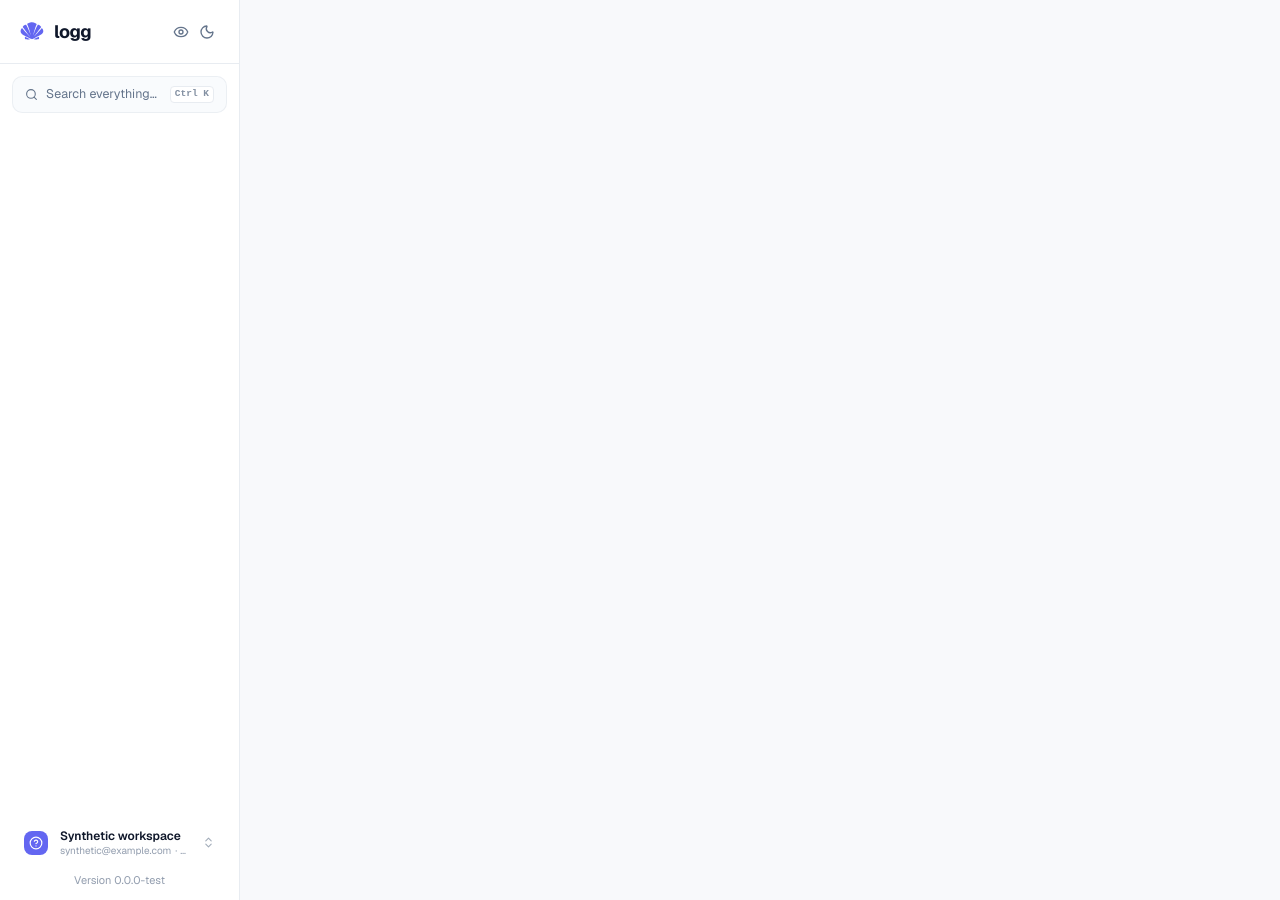
Test: still offers the full local credential menu on the desktop surface
Step 1. Click the button "Synthetic workspace synthetic@example.com· Owner" → {"x": 120, "y": 843}, box [12, 818, 227, 868]
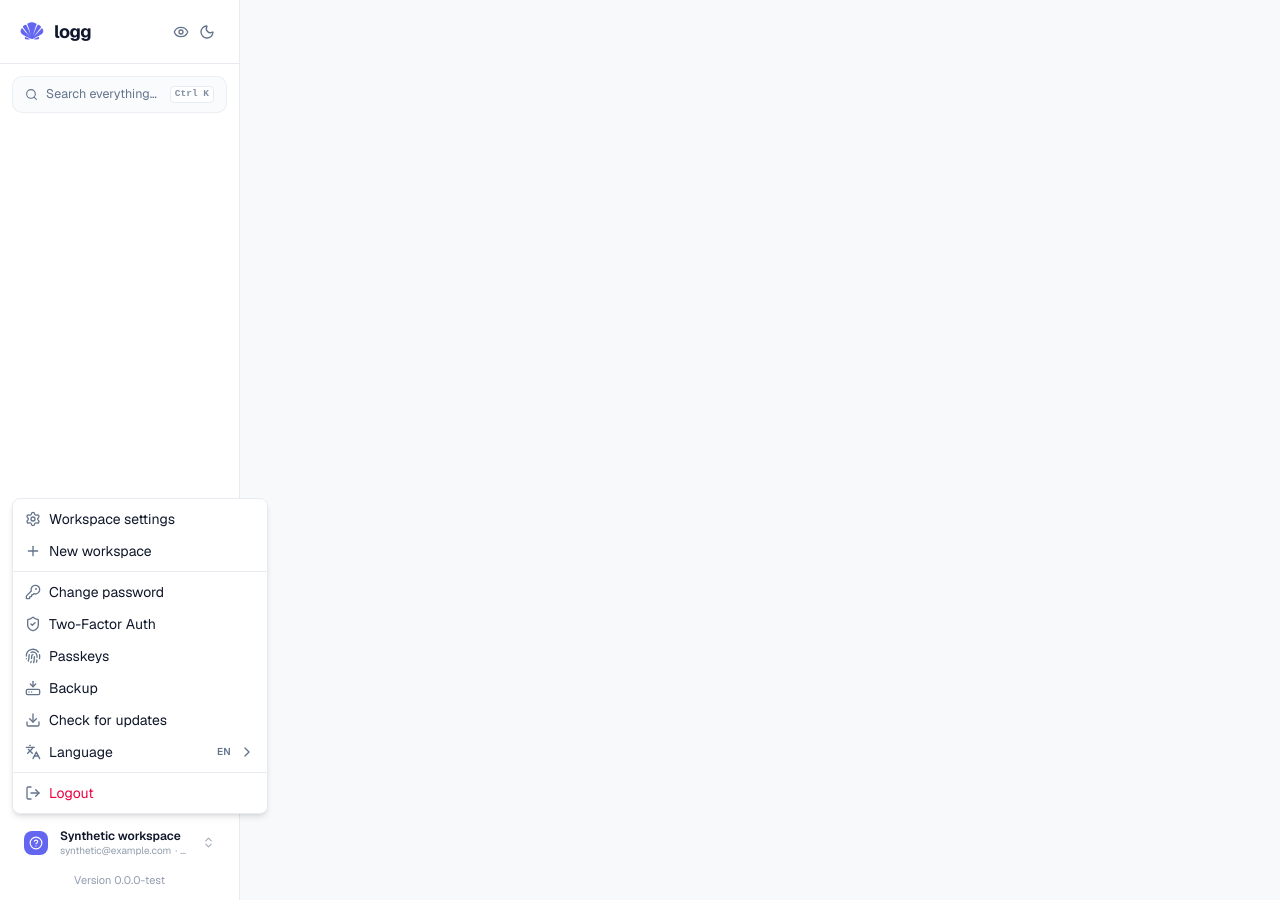
Result: the menu item "Change password" is shown at [25, 583, 164, 601]
Result: the menu item "Two-Factor Auth" is shown at [25, 615, 156, 633]
Step 2. Click the menu item "Passkeys" → {"x": 67, "y": 656}, box [25, 647, 109, 665]
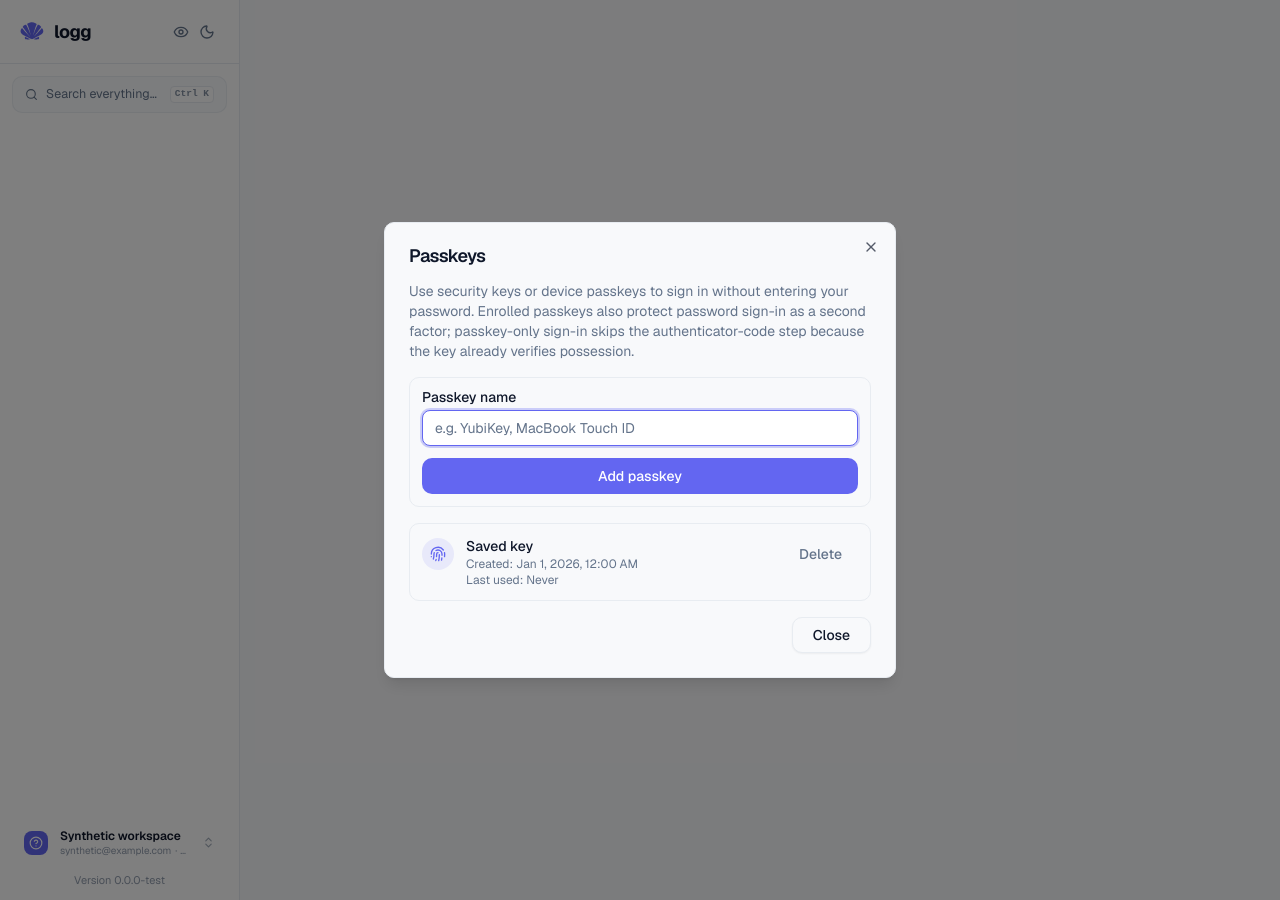
Result: the text "Saved key" is shown at [466, 537, 533, 555]
Result: the button "Add passkey" is shown at [422, 458, 858, 494]
